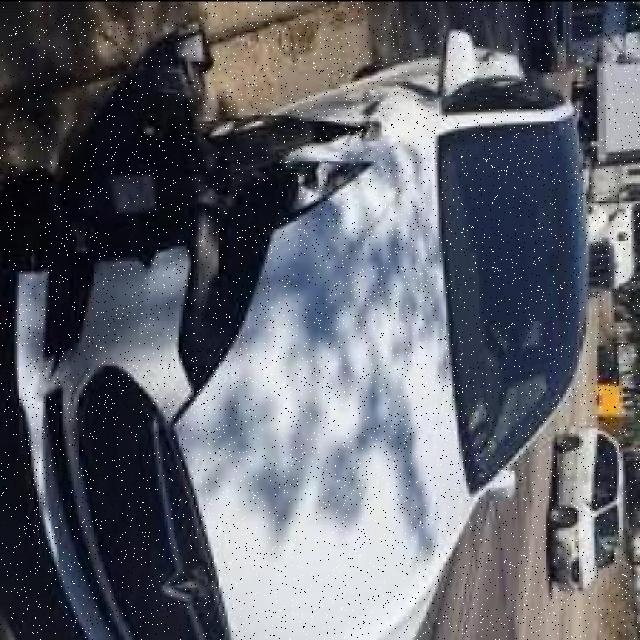damage: (20, 17, 387, 429)
